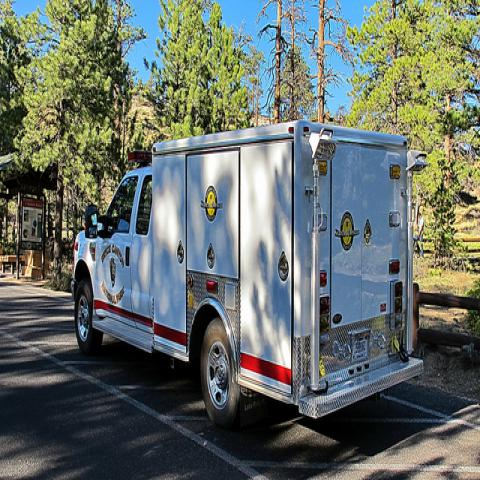truck: (71, 120, 425, 428)
